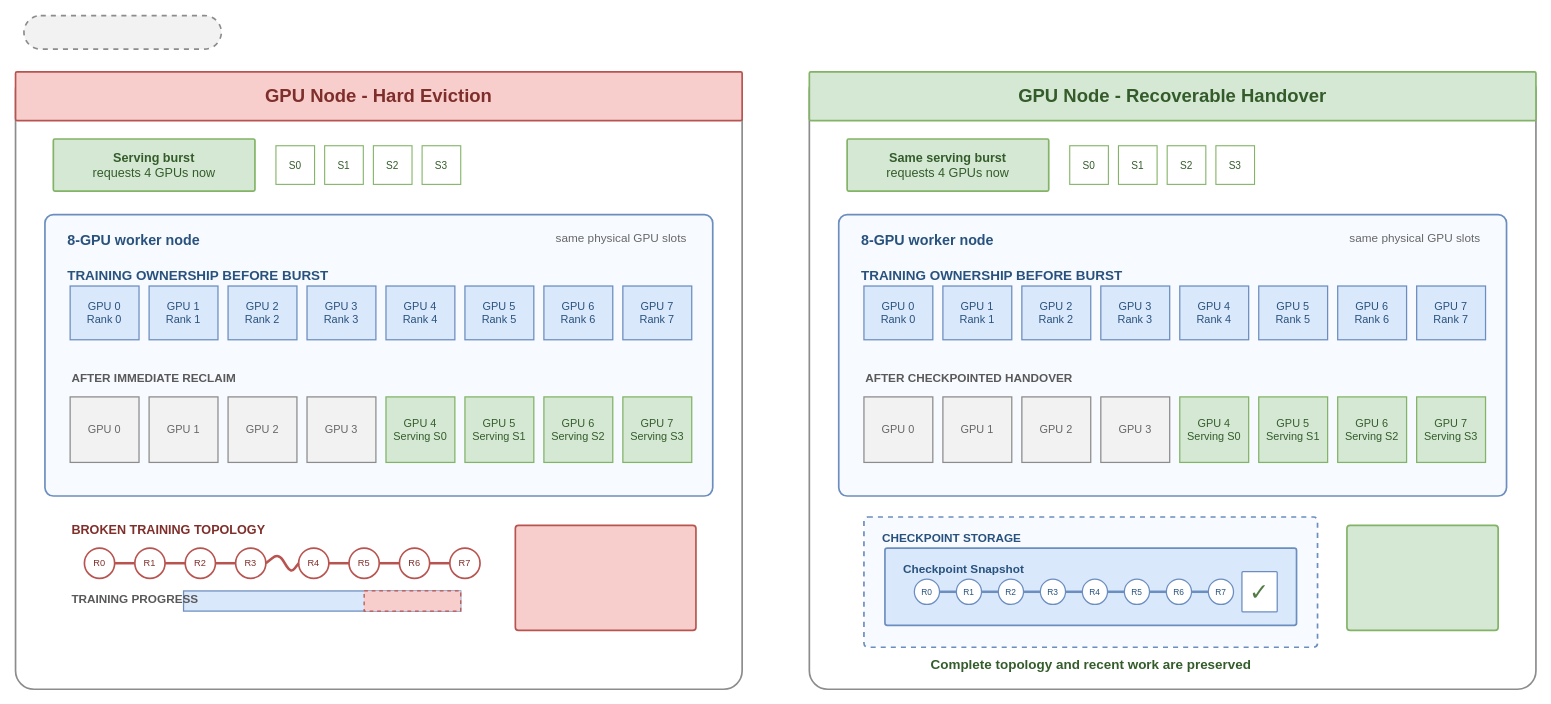
The diagram is 1551 pixels wide and 704 high, and some of its shapes have lost their labels. The centre of each missing label's shape, as x and y in pixels:
"FUTURE DIRECTION" goes at (x=122, y=32).
"Lost recent work" goes at (x=412, y=600).
"Training Job same progress Resume Queue" goes at (x=1422, y=577).
"Training Job start again Restart Queue" goes at (x=605, y=577).
